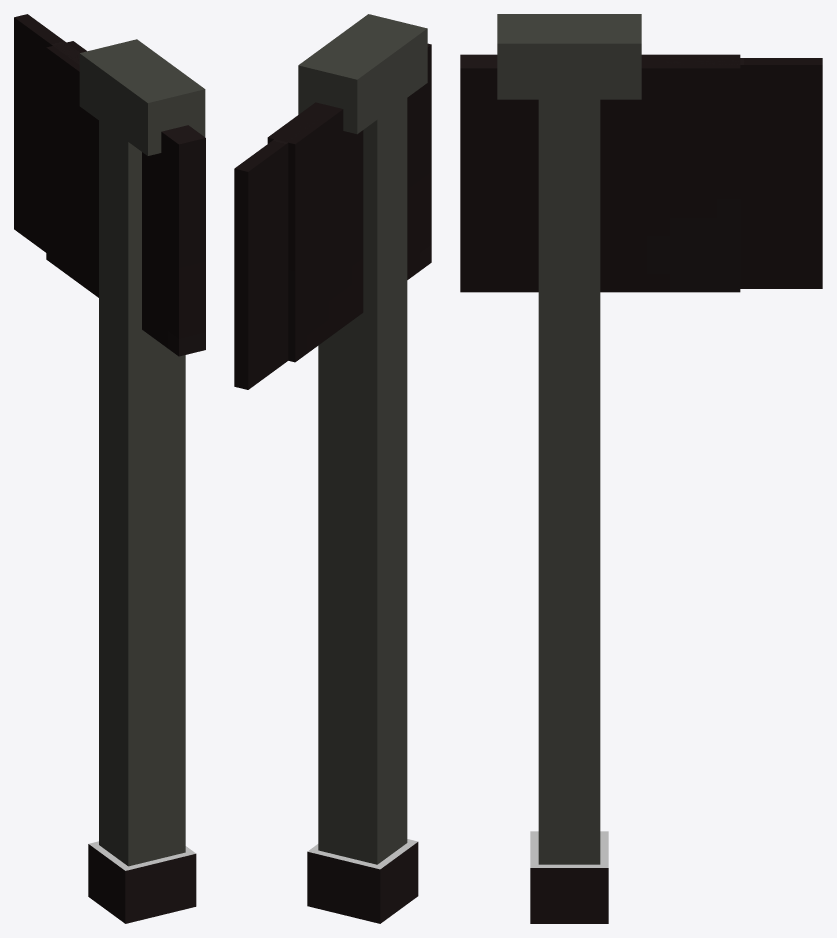
File: dagrum_axe_test.obj
The picture shows the model from 3 angles, left to right: view 1: azimuth 30°, elevation 25°; view 2: azimuth 150°, elevation 25°; view 3: azimuth 270°, elevation 25°; orthographic projection. The views are drawn at different scales.
Visible parts, largest first — view 1: cube; view 2: cube; view 3: cube.
Part boxes in pixels (box(x1,y1,x2,y2)): cube: box(14, 14, 205, 923); cube: box(234, 14, 431, 923); cube: box(460, 14, 822, 923).
Size of the model in its own units: 0.0656 by 0.7344 by 0.275.
